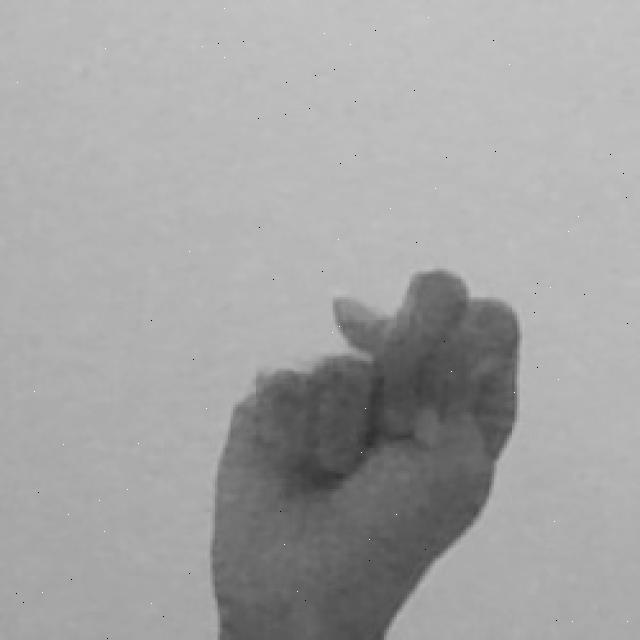N: (201, 260, 525, 640)
